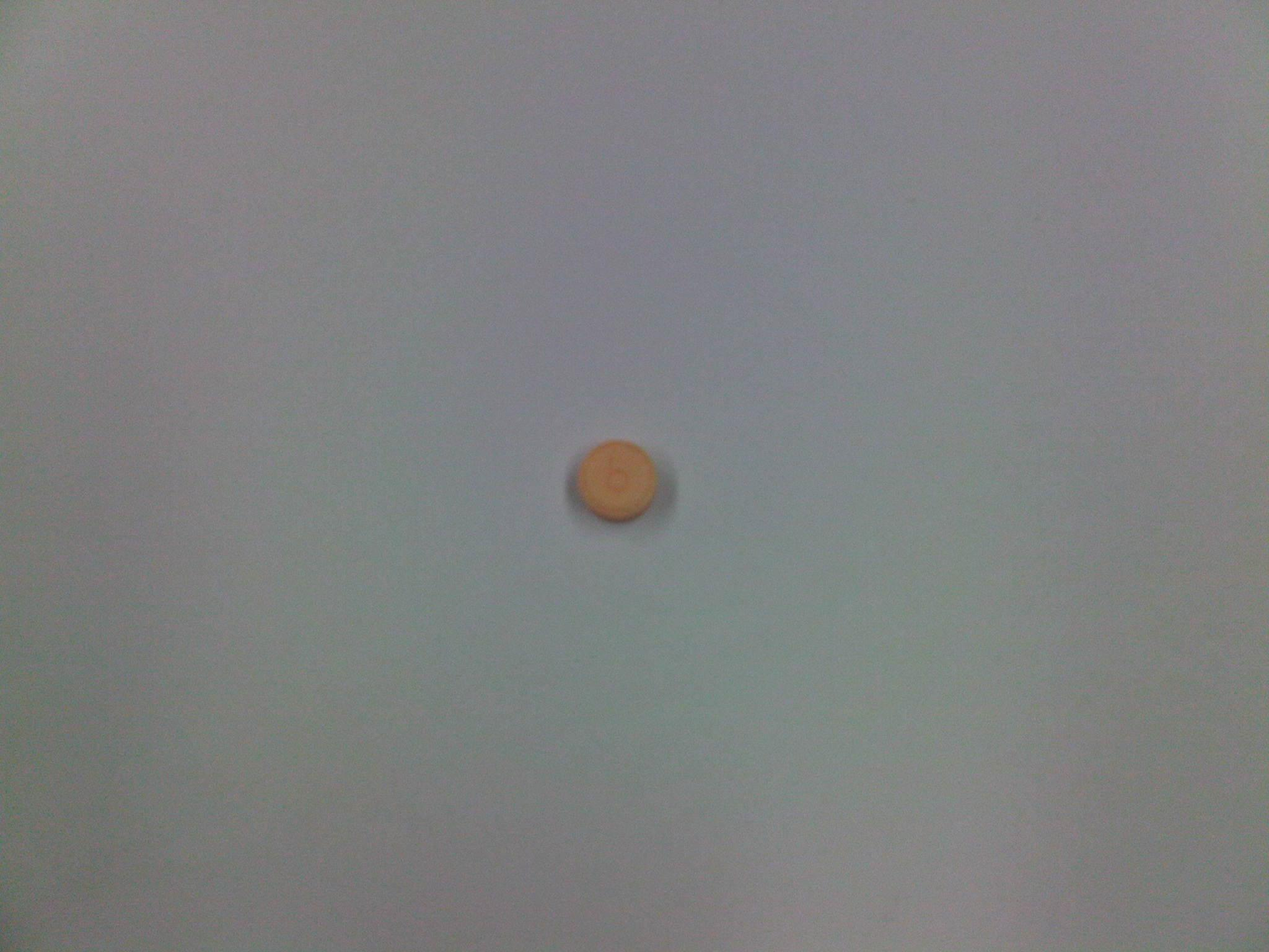Pill: (570, 432, 669, 533)
